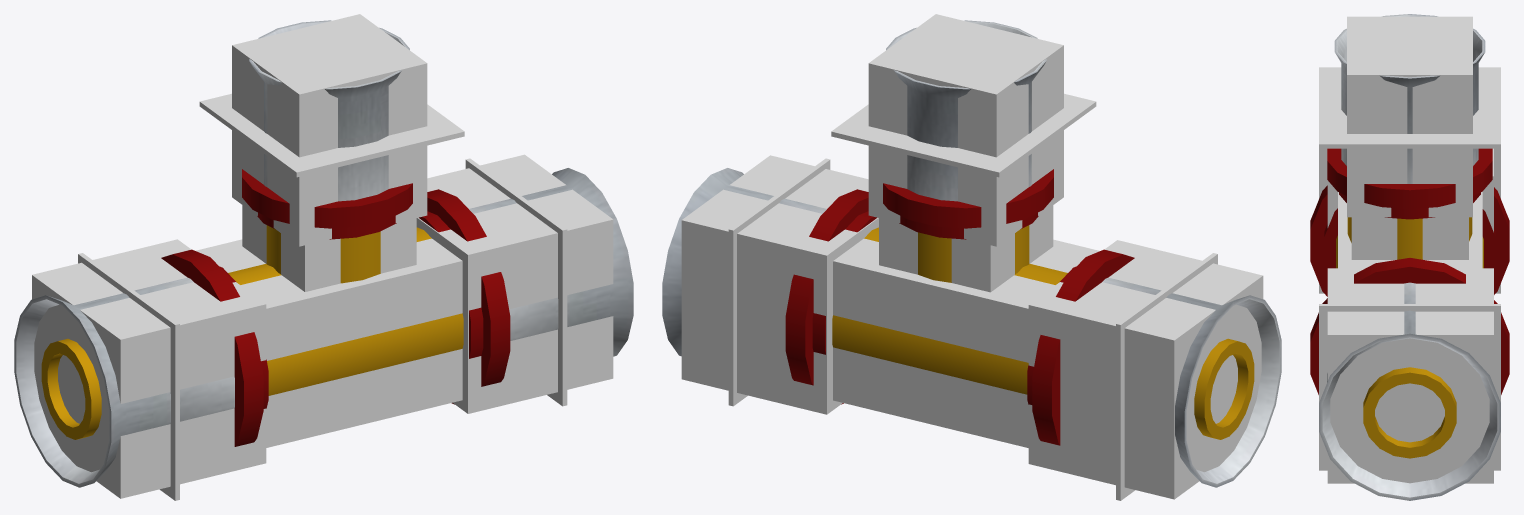
The picture shows the model from 3 angles, left to right: view 1: azimuth 30°, elevation 25°; view 2: azimuth 150°, elevation 25°; view 3: azimuth 270°, elevation 25°; orthographic projection. The views are drawn at different scales.
Parts seen in each view (by area): view 1: tronik_32х26х32_COL_, tronik_32х26х32_, Box001_est_006, Box001_est_004, Box001_est_005; view 2: tronik_32х26х32_COL_, tronik_32х26х32_, Box001_est_006, Box001_est_004, Box001_est_005; view 3: tronik_32х26х32_COL_, tronik_32х26х32_, Box001_est_006, Box001_est_004, Box001_est_005.
Boxes of the visible parts, x1,y1,x2,y2 form: tronik_32х26х32_COL_: (32, 14, 613, 498); tronik_32х26х32_: (14, 20, 633, 487); Box001_est_006: (199, 93, 464, 177); Box001_est_004: (465, 158, 567, 406); Box001_est_005: (78, 253, 179, 500); tronik_32х26х32_COL_: (681, 14, 1263, 499); tronik_32х26х32_: (662, 20, 1281, 487); Box001_est_006: (831, 93, 1096, 177); Box001_est_004: (728, 158, 830, 406); Box001_est_005: (1116, 253, 1217, 500); tronik_32х26х32_COL_: (1327, 16, 1493, 483); tronik_32х26х32_: (1310, 14, 1509, 500); Box001_est_006: (1319, 67, 1500, 148); Box001_est_004: (1319, 304, 1500, 470); Box001_est_005: (1319, 148, 1500, 293).
Size of the model in its own units: 0.1119 by 0.0756 by 0.0395.
Materials: 3 (1 with a texture image).
